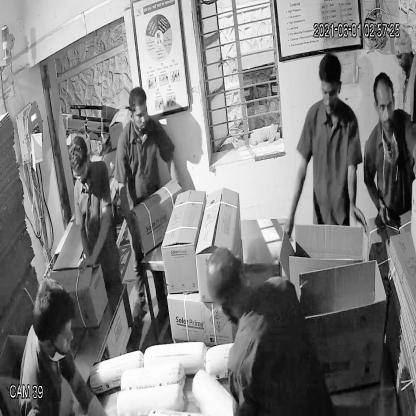no_goggles: (373, 95, 398, 117), (129, 104, 152, 125)
